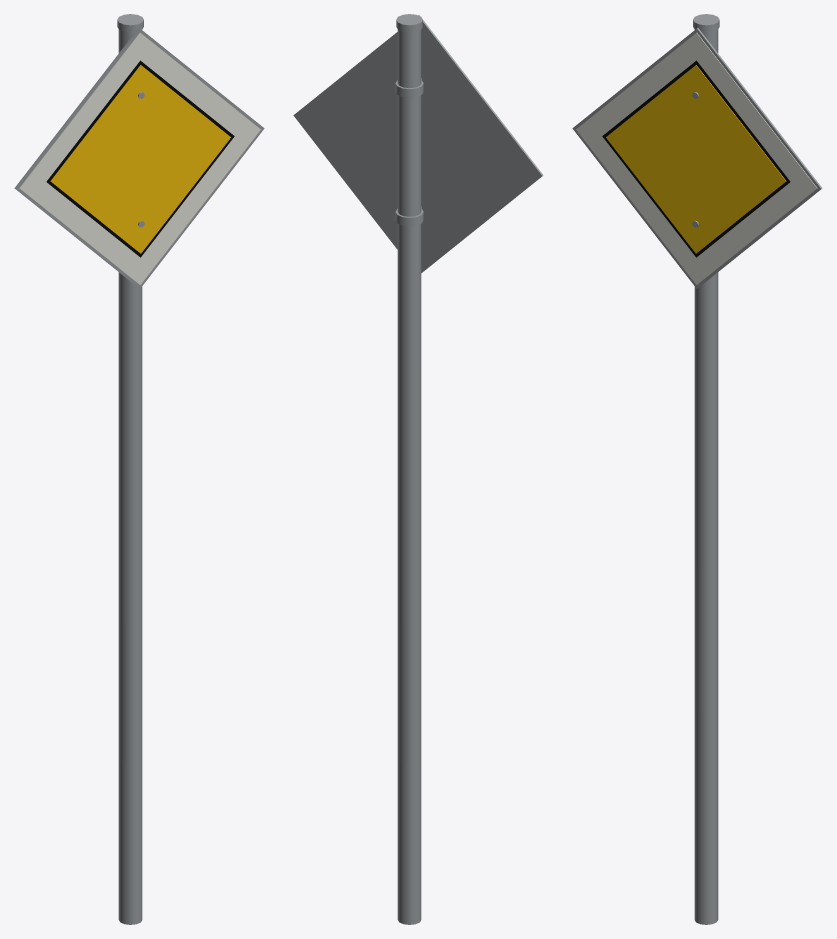
The model's file is sign_main_road.glb.
3 renders of one model, left to right at view 1: azimuth 30°, elevation 25°; view 2: azimuth 150°, elevation 25°; view 3: azimuth 330°, elevation 25°, orthographic.
Visible parts, largest first — view 1: Plate, Pole; view 2: Plate, Pole; view 3: Plate, Pole.
Part boxes in pixels (x1,y1,x2,y2): Plate: (14, 28, 264, 288); Pole: (117, 14, 143, 924); Plate: (293, 15, 543, 272); Pole: (395, 14, 423, 924); Plate: (572, 28, 822, 288); Pole: (693, 14, 719, 924).
Bounding box in the file's own units: 0.7296 × 2.52 × 0.093.
